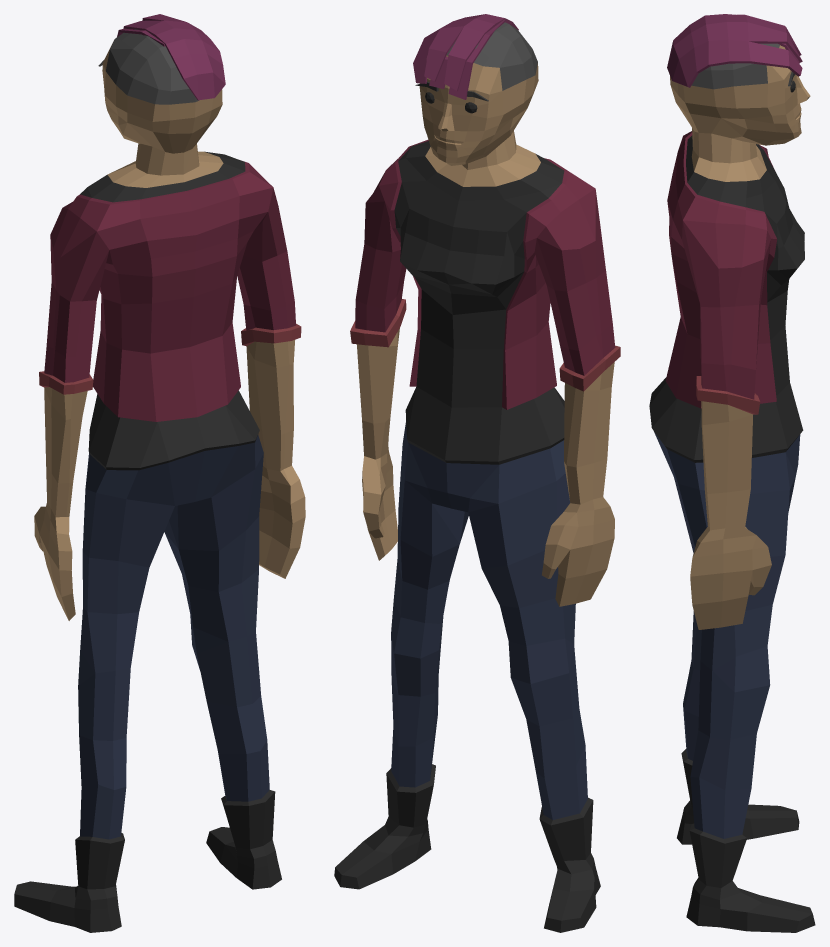
The model's file is Female_Alternative.glb.
3 renders of one model, left to right at view 1: azimuth 30°, elevation 25°; view 2: azimuth 150°, elevation 25°; view 3: azimuth 270°, elevation 25°, orthographic.
Parts seen in each view (by area): view 1: Female_Alternative; view 2: Female_Alternative; view 3: Female_Alternative.
Boxes of the visible parts, x1=… form: Female_Alternative: x1=14, y1=14, x2=305, y2=932; Female_Alternative: x1=334, y1=14, x2=620, y2=932; Female_Alternative: x1=649, y1=14, x2=815, y2=932.
Size of the model in its own units: 1.4 by 4.65 by 0.8145.
